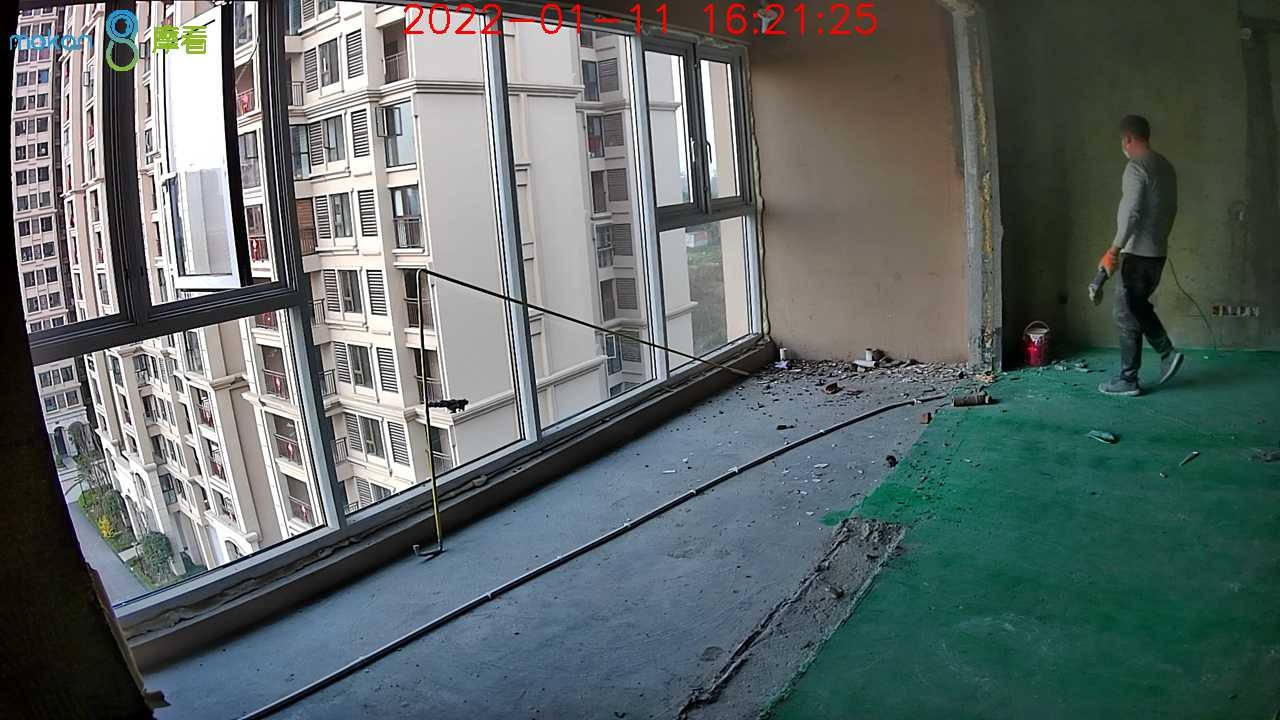people: (1100, 113, 1182, 396)
window: (8, 1, 774, 611)
